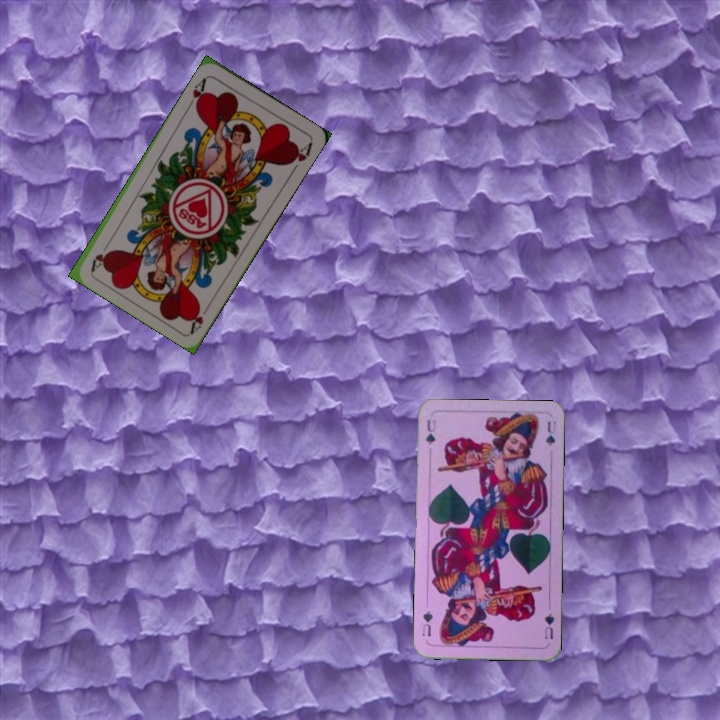GU: (540, 609, 557, 642), (422, 415, 438, 447)
HA: (184, 73, 211, 113), (186, 298, 214, 335)
